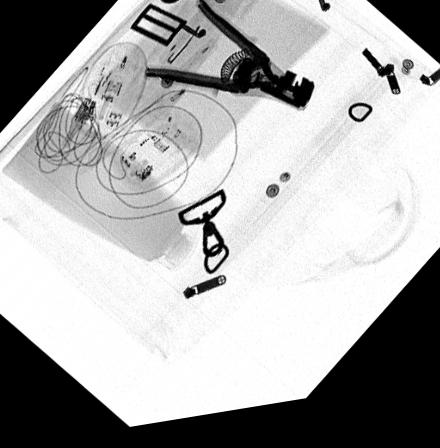Pliers: (142, 3, 314, 120)
